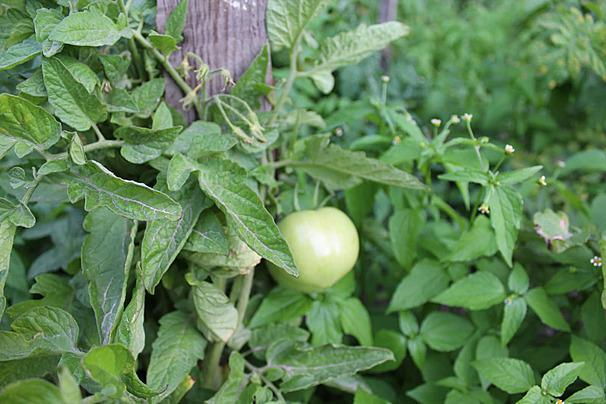Muda: (254, 202, 363, 297)
